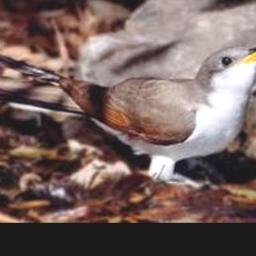Cuckoo: (0, 45, 256, 184)
